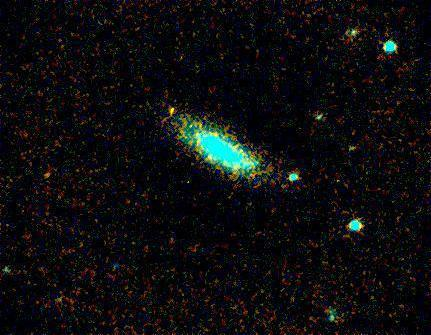star: (32, 161, 62, 191)
